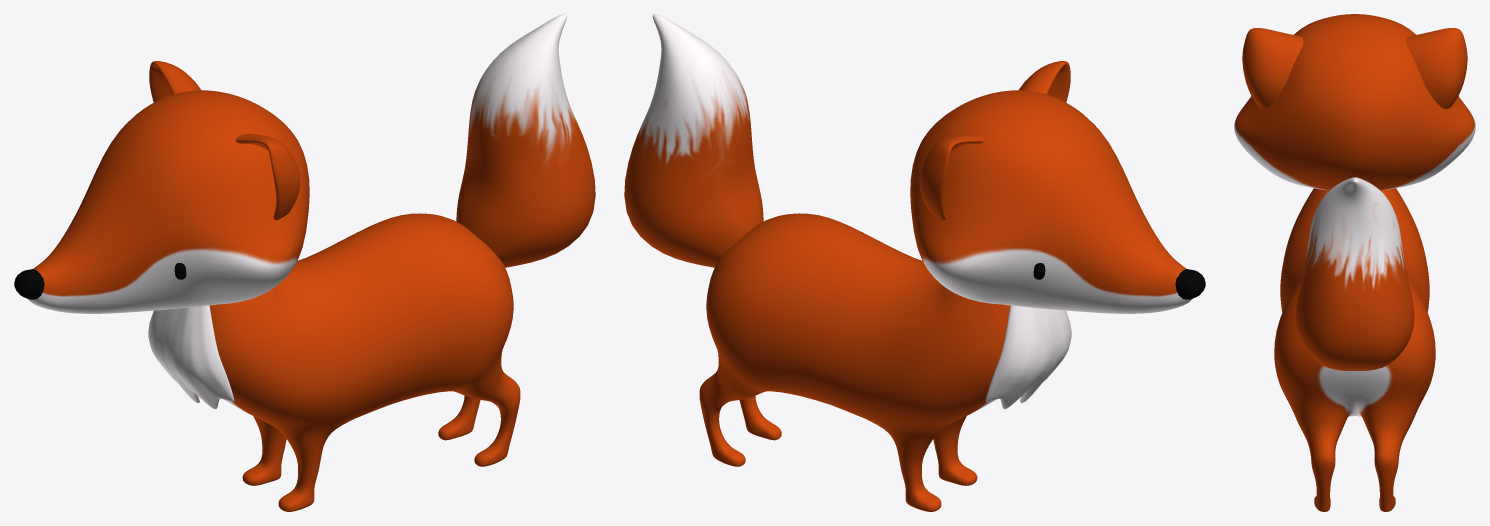
File: Fox.obj
3 renders of one model, left to right at view 1: azimuth 30°, elevation 25°; view 2: azimuth 150°, elevation 25°; view 3: azimuth 270°, elevation 25°, orthographic. The views are drawn at different scales.
Parts seen in each view (by area): view 1: Fox.001; view 2: Fox.001; view 3: Fox.001.
Boxes of the visible parts, x1,y1,x2,y2 form: Fox.001: (14,14,595,511); Fox.001: (624,14,1205,511); Fox.001: (1234,14,1475,511).
Bounding box in the file's own units: 1.16 × 0.8087 × 0.4805.
2 materials, 1 textured.
